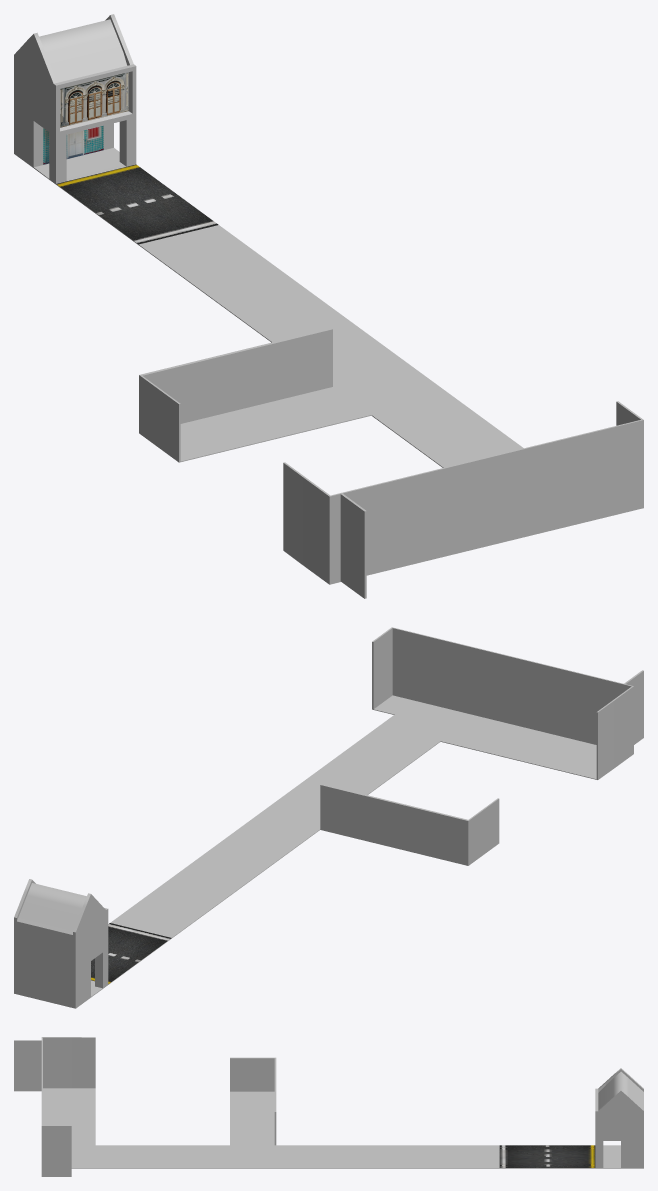
Rendered from walls.fbx.
3 views of the same model, one above another, from view 1: azimuth 30°, elevation 25°; view 2: azimuth 150°, elevation 25°; view 3: azimuth 270°, elevation 25° (orthographic). The views are drawn at different scales.
Visible parts, largest first — view 1: Shophouse1; view 2: Shophouse1; view 3: Shophouse1.
Part boxes in pixels (x1=…): Shophouse1: x1=14, y1=14, x2=643, y2=598; Shophouse1: x1=14, y1=627, x2=643, y2=1008; Shophouse1: x1=14, y1=1037, x2=643, y2=1176.
Bounding box in the file's own units: 1759 × 721 × 5276.
